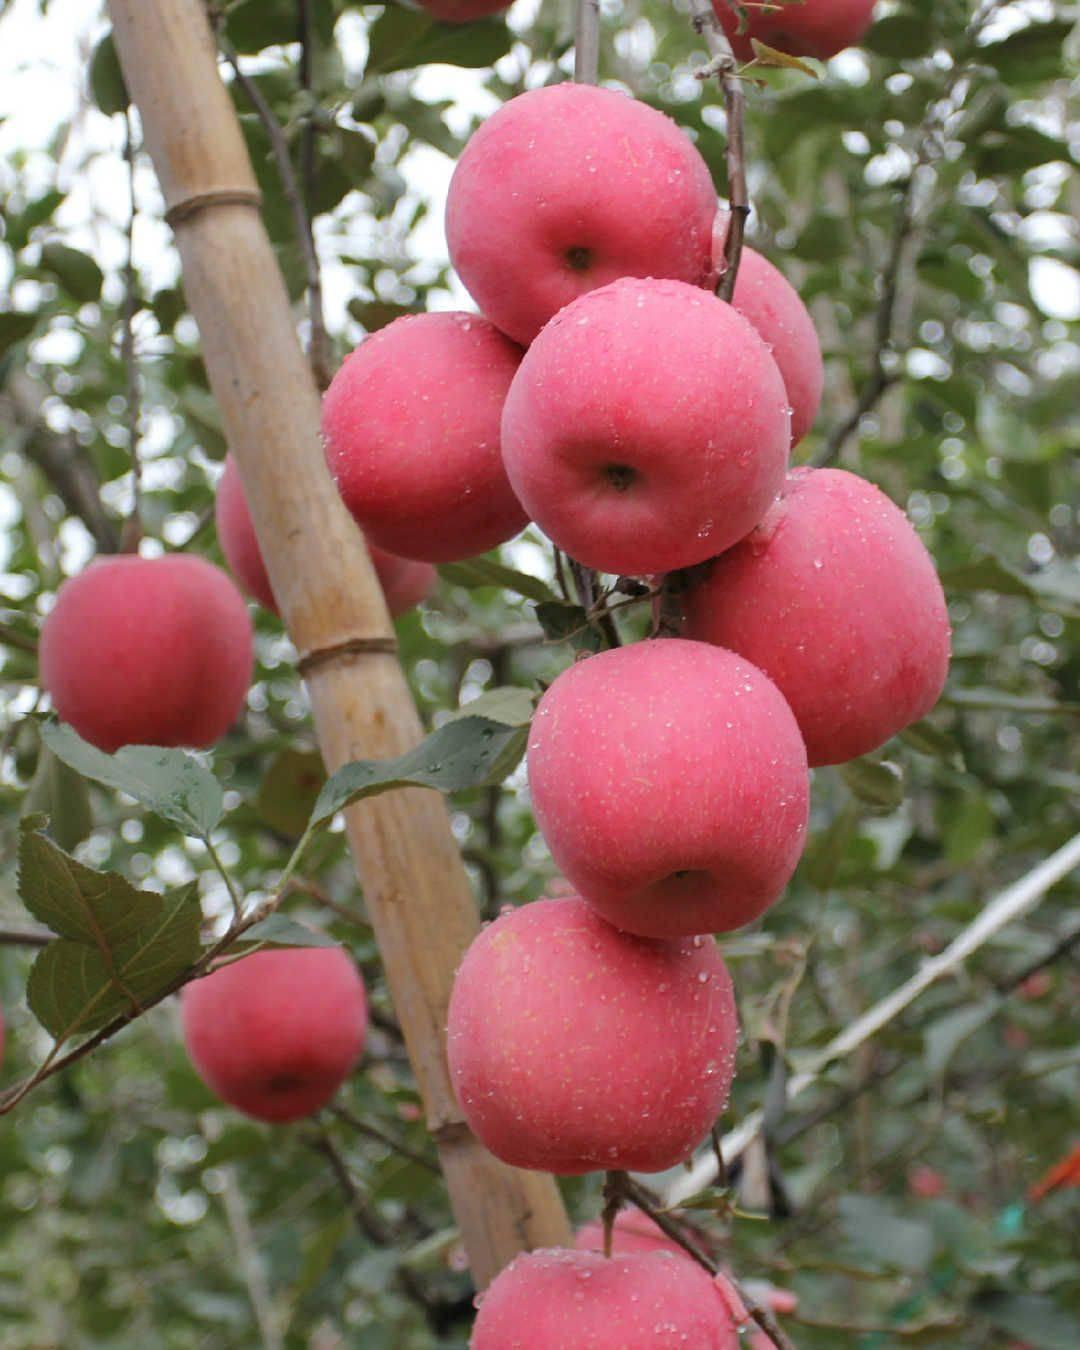apple: (650, 463, 953, 766), (497, 277, 791, 577), (526, 640, 808, 940), (449, 896, 736, 1178), (440, 78, 719, 341), (316, 310, 537, 563), (41, 550, 253, 762), (176, 939, 368, 1126), (464, 1241, 756, 1350)
